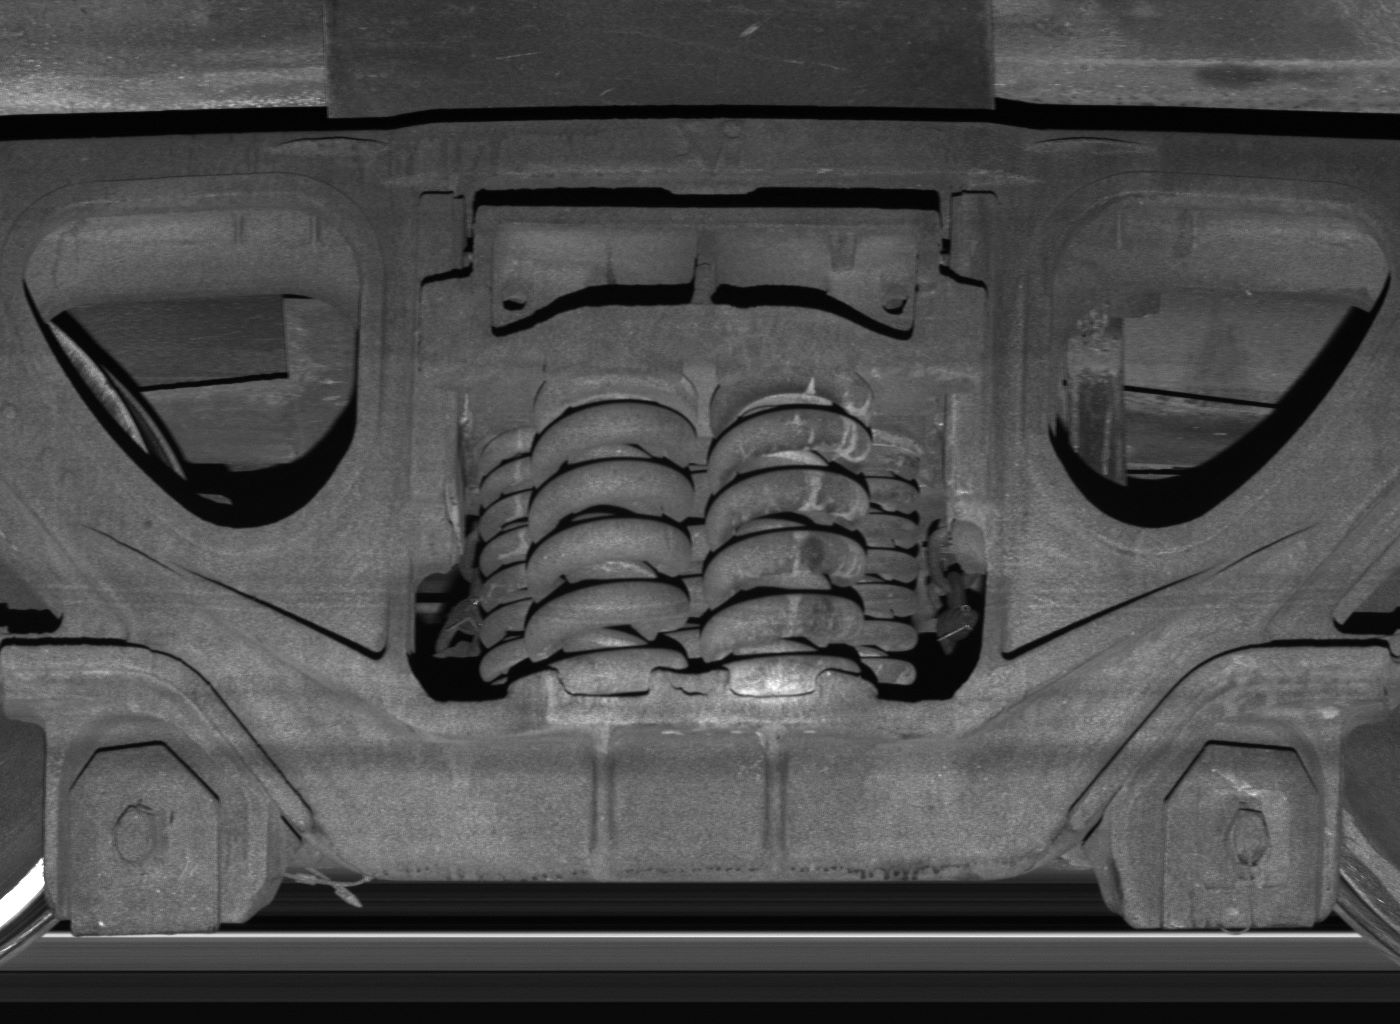normal: (46, 685, 266, 937), (1112, 690, 1342, 932)
